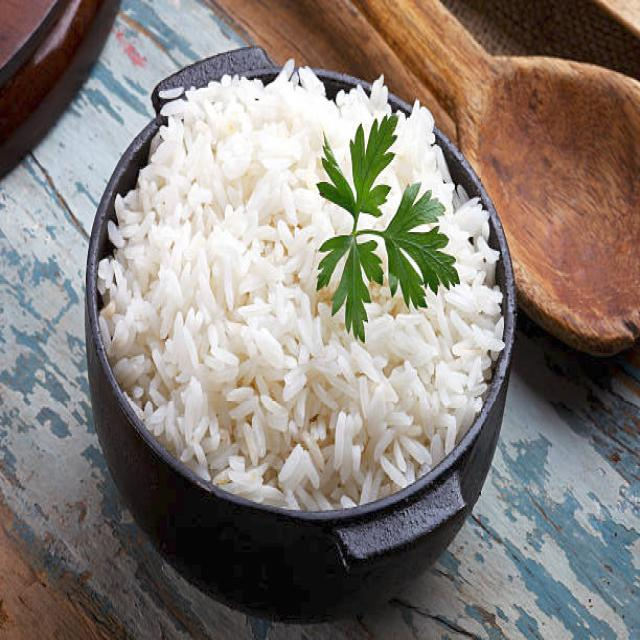rice: (93, 58, 508, 511)
